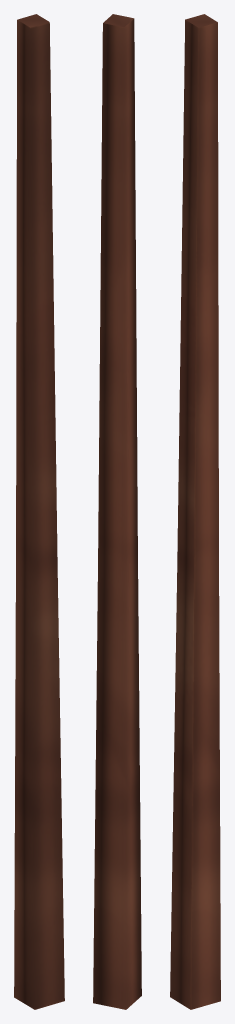
The model's file is tool_pointer.FBX.
3 renders of one model, left to right at view 1: azimuth 90°, elevation 25°; view 2: azimuth 210°, elevation 25°; view 3: azimuth 270°, elevation 25°, orthographic.
Parts seen in each view (by area): view 1: pointer; view 2: pointer; view 3: pointer.
Part boxes in pixels (box(x1,y1,x2,y2)): pointer: box(14, 14, 64, 1009); pointer: box(93, 14, 141, 1009); pointer: box(170, 14, 220, 1009).
Size of the model in its own units: 3.13 by 66.52 by 3.13.
